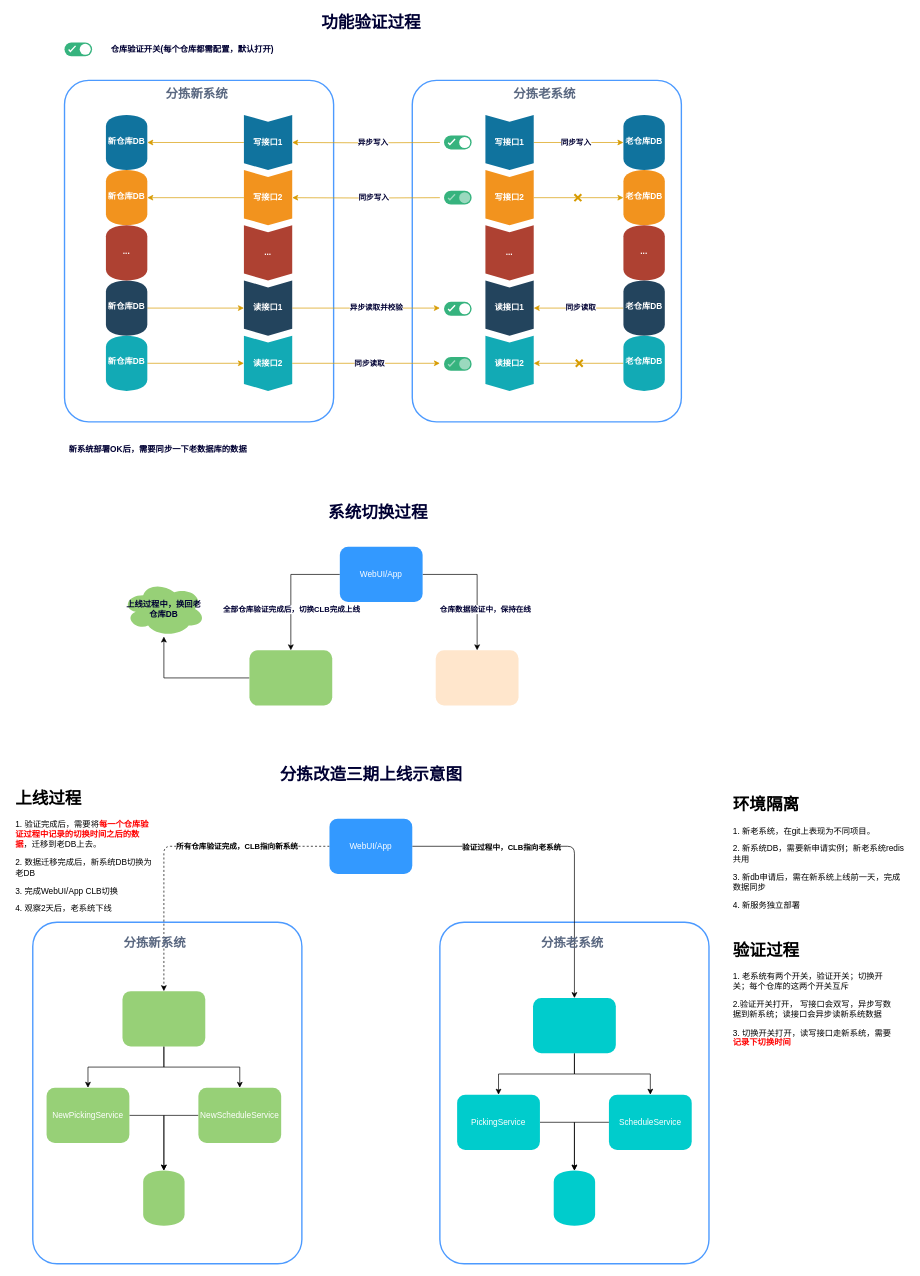
Some shapes in this 920 by 1276 pixel diagram are drawn without their labels. The box of each missing label's shape, as (x1, y1, x2, y2) in pixels:
NewPickingApi: (122, 991, 205, 1046)
PickingApi: (533, 998, 615, 1053)
新分拣DB: (143, 1170, 184, 1225)
新分拣系统: (249, 650, 332, 705)
老分拣DB: (553, 1170, 595, 1225)
老分拣系统: (435, 650, 518, 705)
